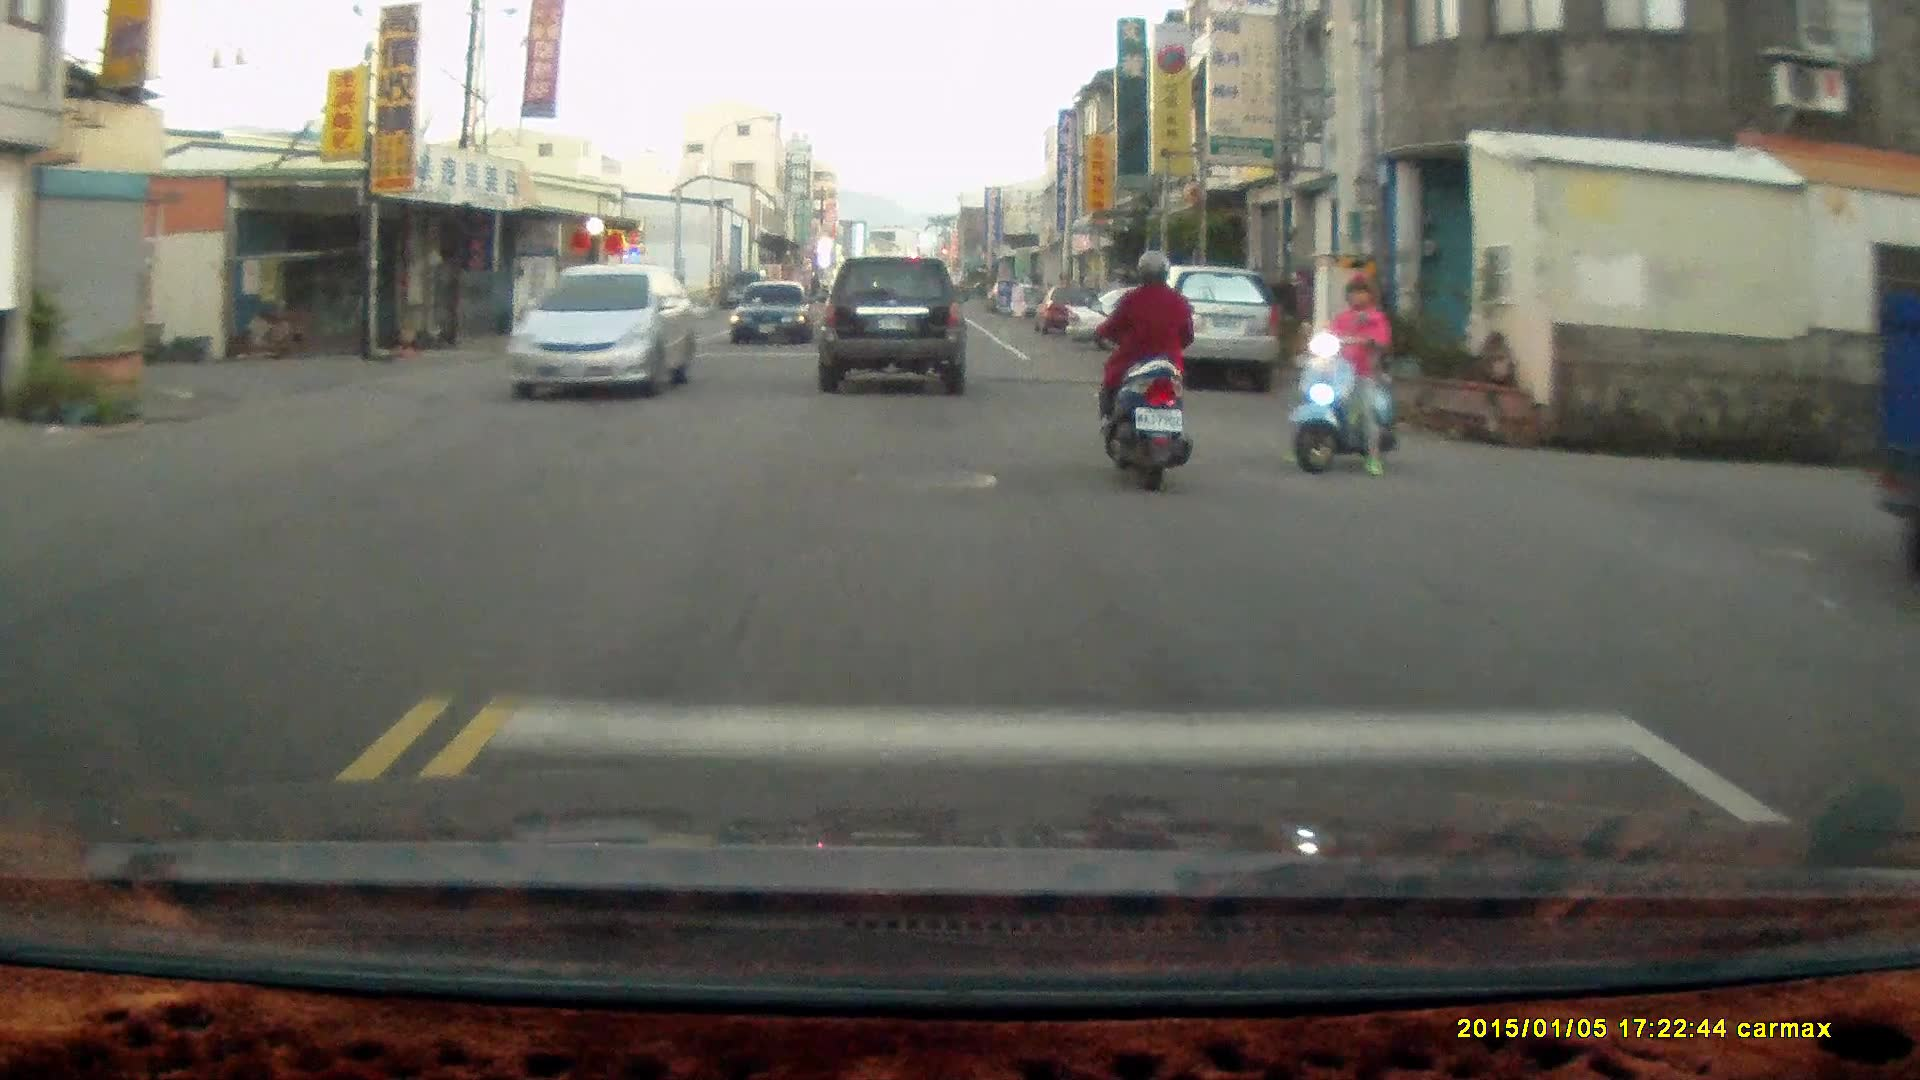rider: (1282, 269, 1400, 478), (1099, 250, 1194, 500)
vehicle: (508, 264, 697, 403), (817, 256, 968, 401), (1119, 267, 1283, 393), (1062, 283, 1239, 354), (735, 283, 816, 350)
